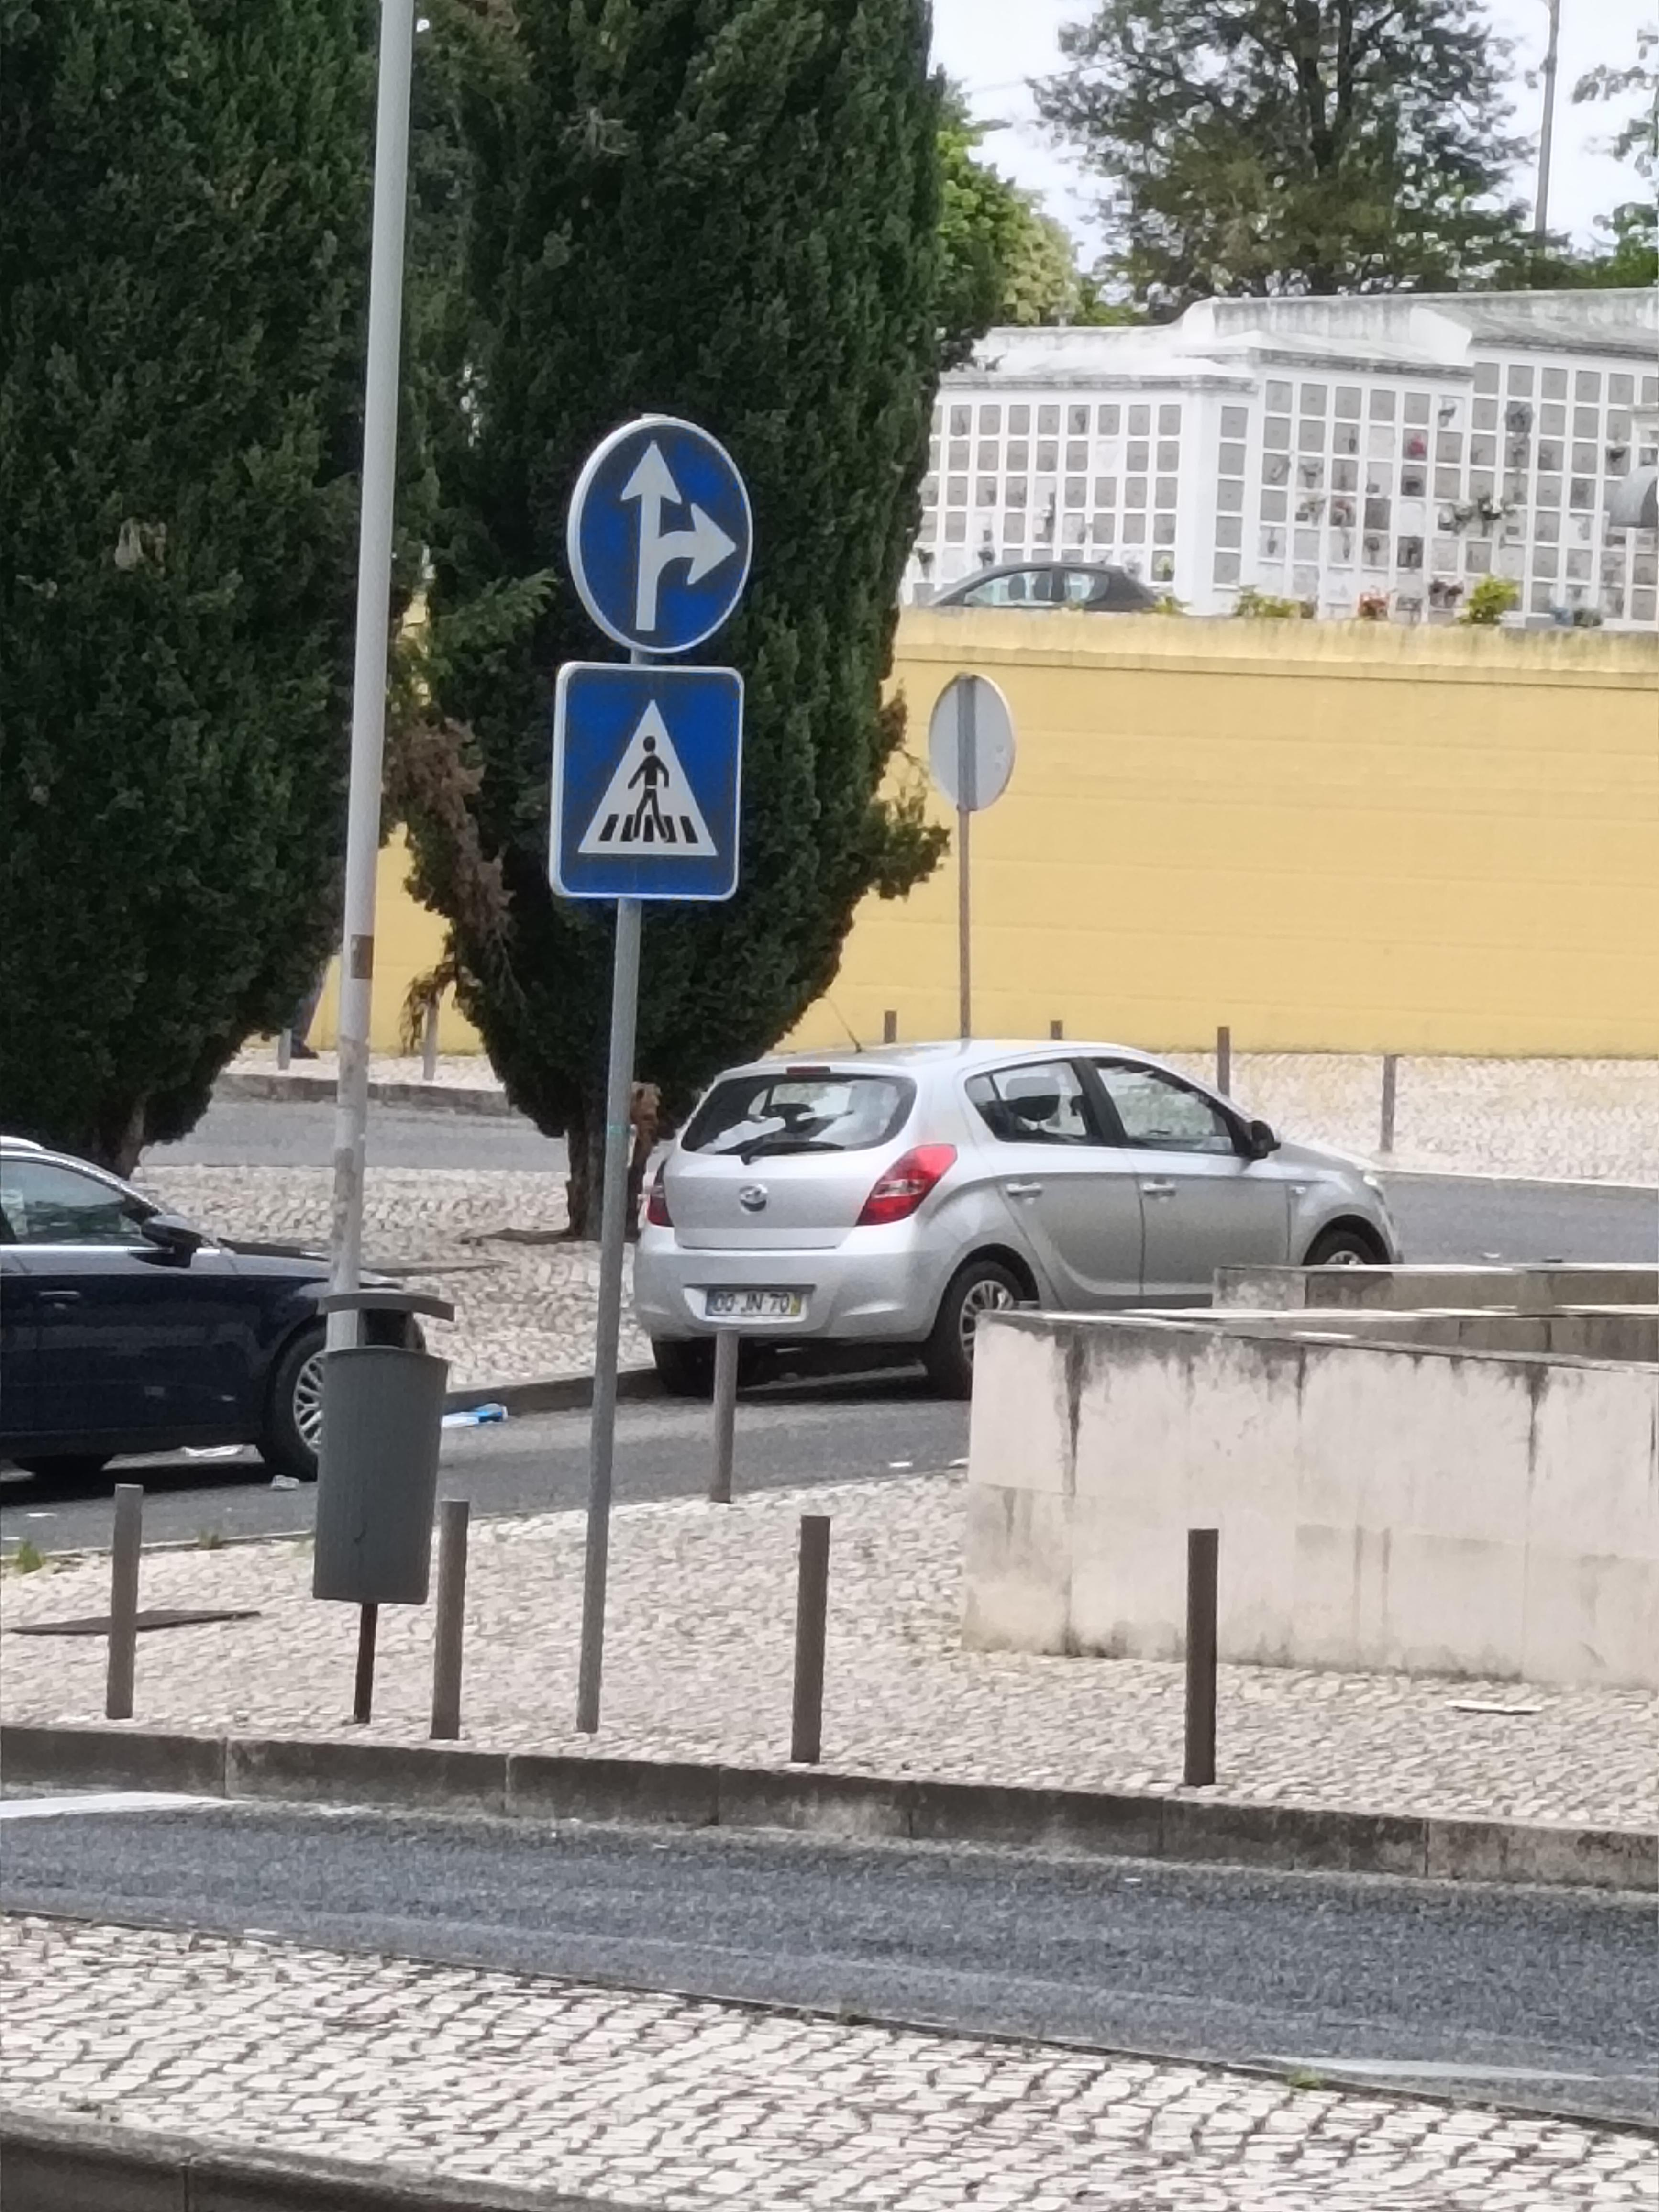passagem para peoes: (545, 641, 746, 918)
sentidos obrigatorios possiveis: (584, 383, 737, 665)
